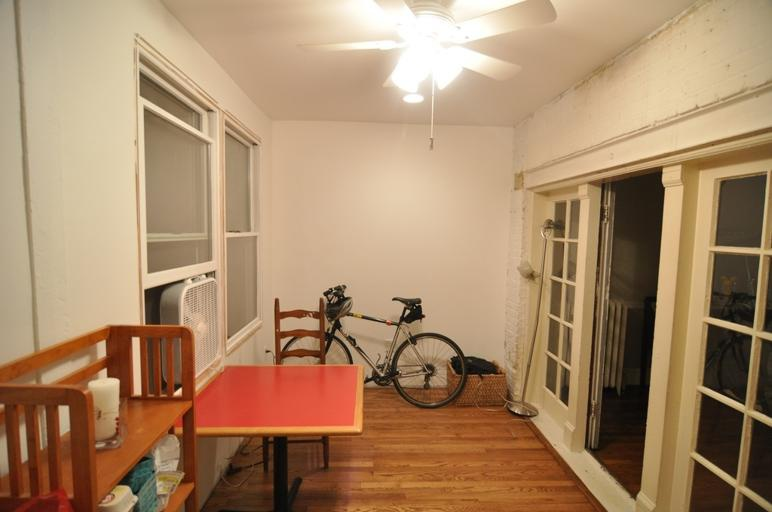non-vehicle: (272, 282, 465, 409), (695, 279, 770, 406)
